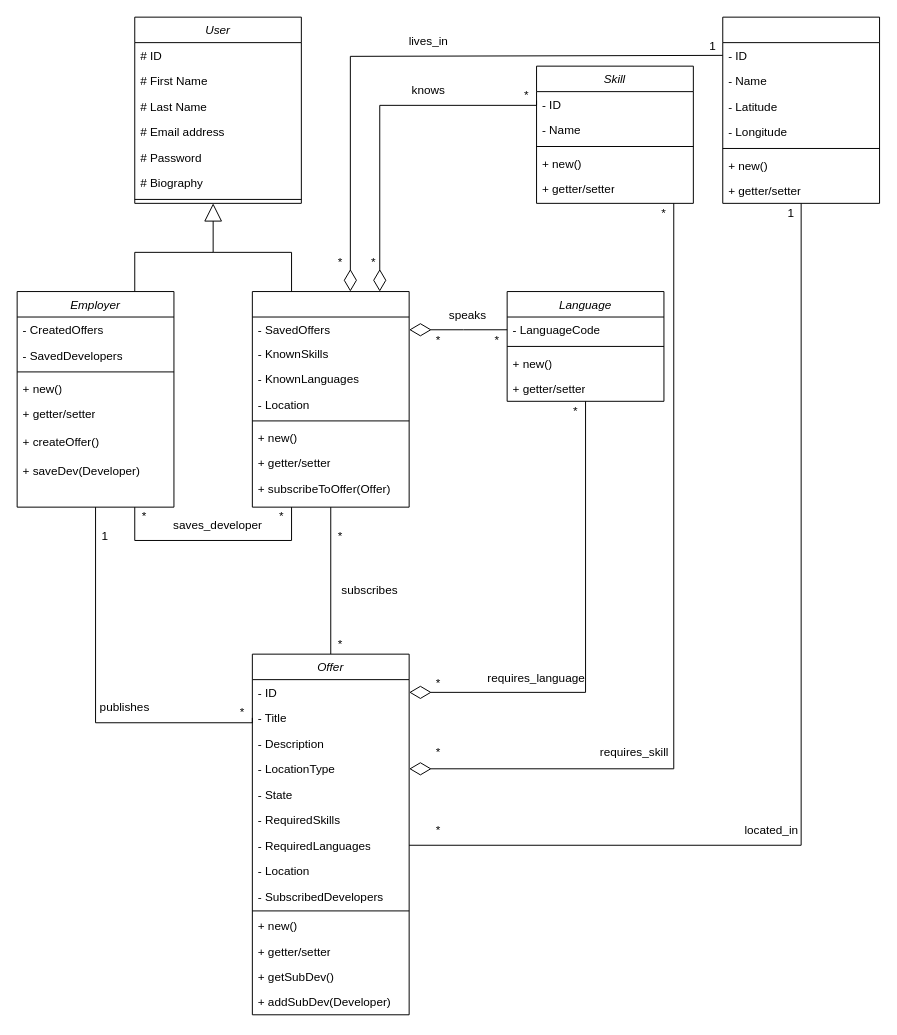
The diagram is 897 pixels wide and 1035 high, and some of its shapes have lost their labels. Each missing label, with the box of its shape:
Developer: (251, 291, 409, 507)
Location: (722, 16, 880, 203)
